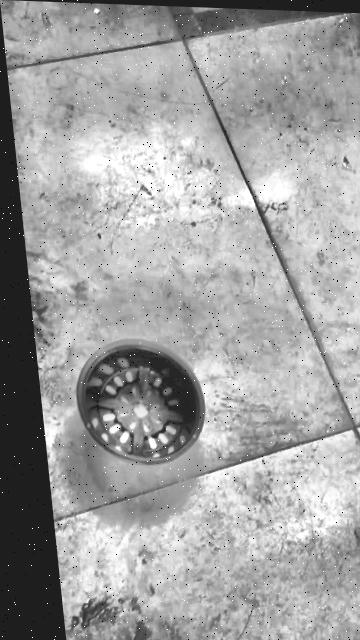pot: (72, 339, 211, 466)
